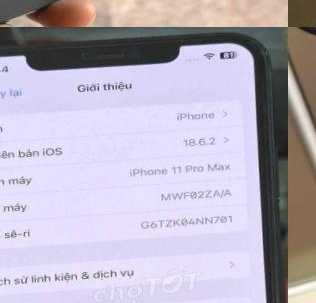scratch: (173, 31, 198, 56)
